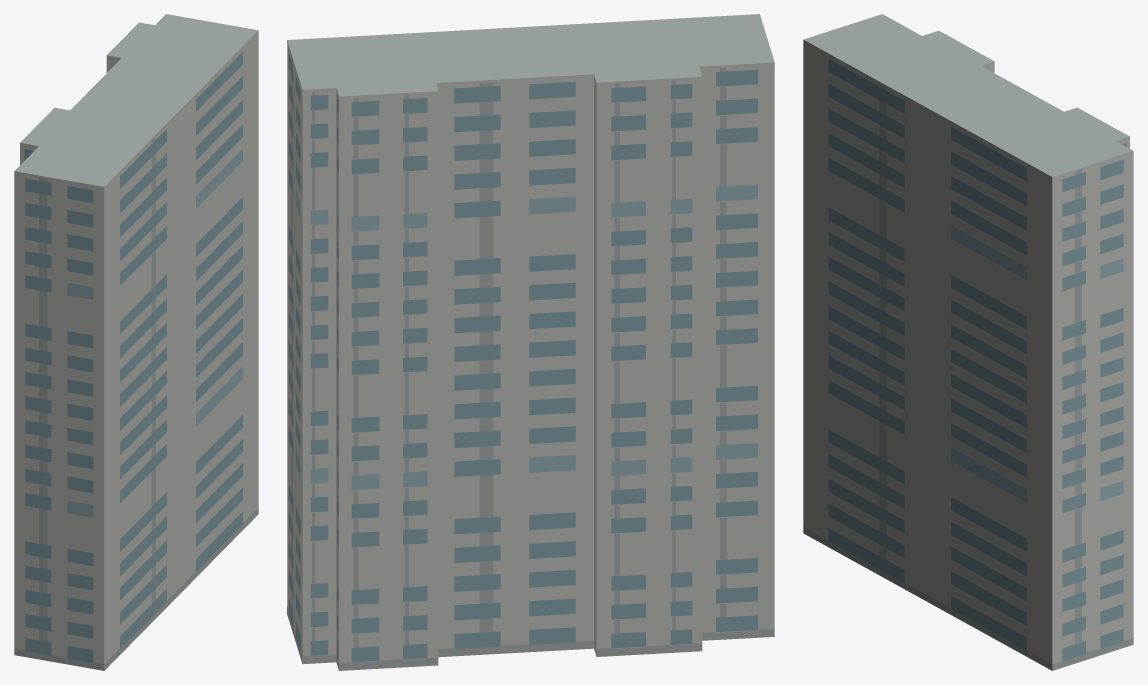
Rendered from residential-d9a054f2-c88f-4d08-8491-321ed0bff5ea.glb.
The picture shows the model from 3 angles, left to right: view 1: azimuth 30°, elevation 25°; view 2: azimuth 150°, elevation 25°; view 3: azimuth 270°, elevation 25°; orthographic projection. The views are drawn at different scales.
Parts seen in each view (by area): view 1: residential-d9a054f2-c88f-4d08-8491-321ed0bff5ea.tmp; view 2: residential-d9a054f2-c88f-4d08-8491-321ed0bff5ea.tmp; view 3: residential-d9a054f2-c88f-4d08-8491-321ed0bff5ea.tmp.
Boxes of the visible parts, x1,y1,x2,y2 form: residential-d9a054f2-c88f-4d08-8491-321ed0bff5ea.tmp: [14, 14, 258, 670]; residential-d9a054f2-c88f-4d08-8491-321ed0bff5ea.tmp: [287, 14, 774, 670]; residential-d9a054f2-c88f-4d08-8491-321ed0bff5ea.tmp: [803, 14, 1133, 670].
Bounding box in the file's own units: 38.97 × 55 × 33.34.
